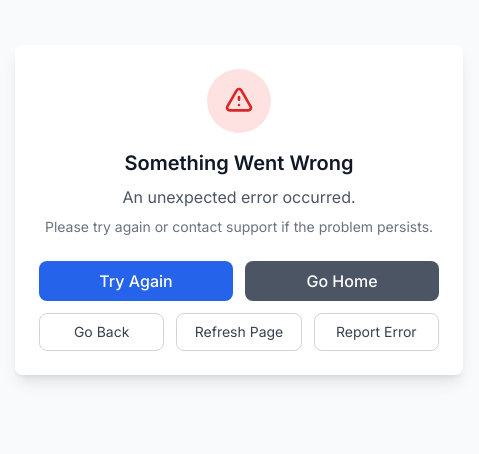
Test case: ErrorBoundary › Retry Functionality › should show max retries warning after max retries reached
Click the button "Try Again" at (136, 281), box [39, 261, 233, 301]
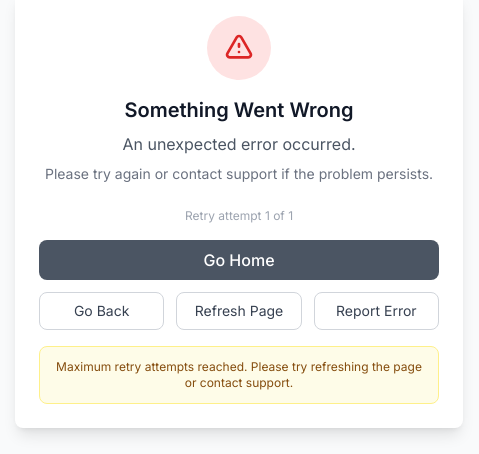
Now the text "Maximum retry attempts reached" is shown, box [56, 359, 422, 390]
